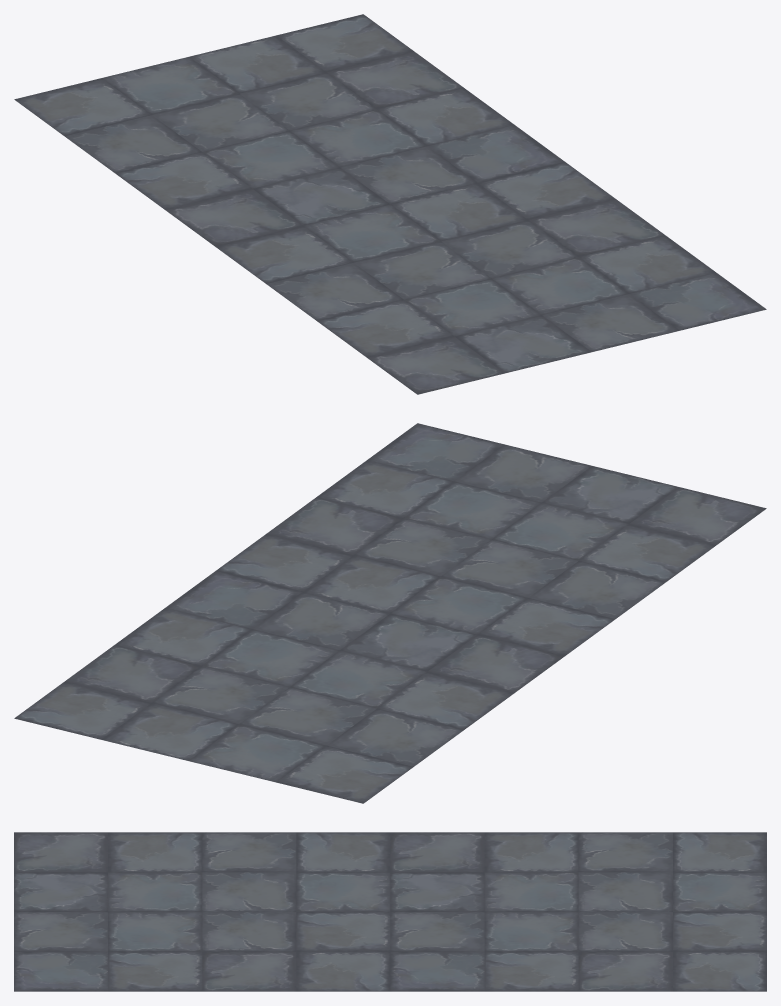
File: Castle Ground + Bright 4x8.fbx
The picture shows the model from 3 angles, top to bottom: view 1: azimuth 30°, elevation 25°; view 2: azimuth 150°, elevation 25°; view 3: azimuth 270°, elevation 25°; orthographic projection. The views are drawn at different scales.
Parts seen in each view (by area): view 1: Castle Ground + Bright 4x8; view 2: Castle Ground + Bright 4x8; view 3: Castle Ground + Bright 4x8.
Boxes of the visible parts, x1,y1,x2,y2 form: Castle Ground + Bright 4x8: [14, 14, 766, 394]; Castle Ground + Bright 4x8: [14, 423, 766, 803]; Castle Ground + Bright 4x8: [14, 832, 766, 991].
Bounding box in the file's own units: 3 × 7.5e-07 × 6.
